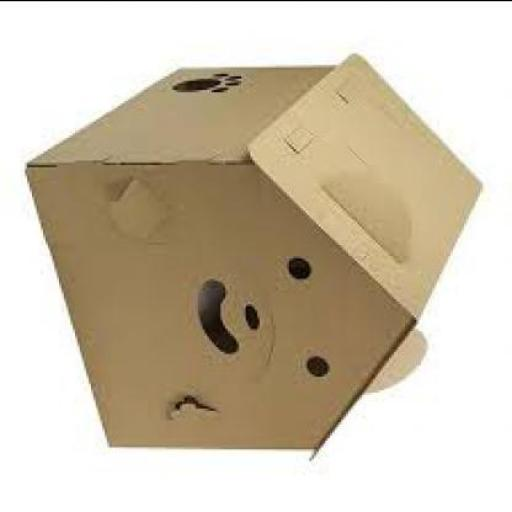cardboard: (27, 50, 487, 455)
